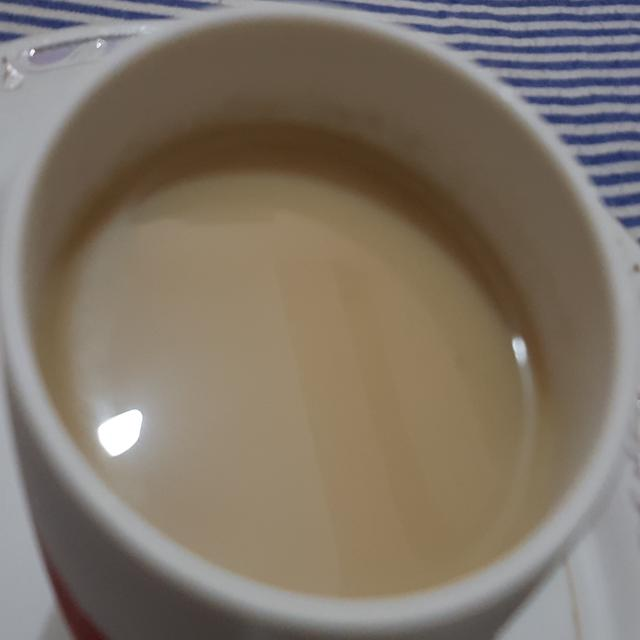Iced Coffee: (1, 6, 637, 637)
